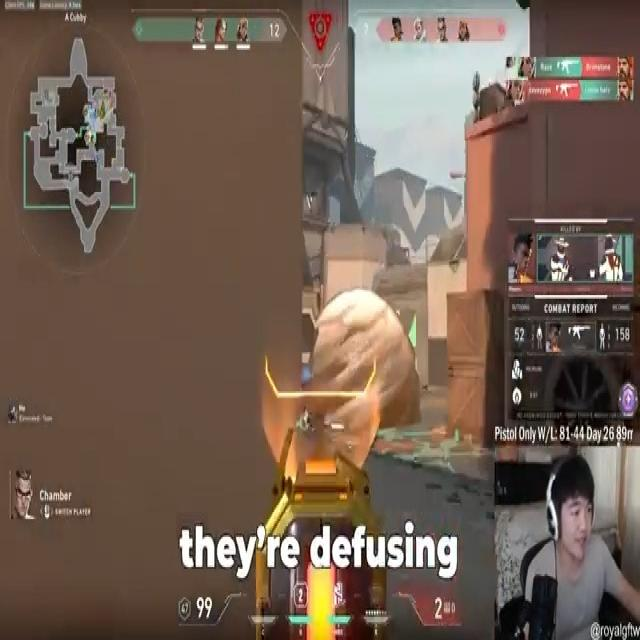smoke: (317, 292, 420, 426)
